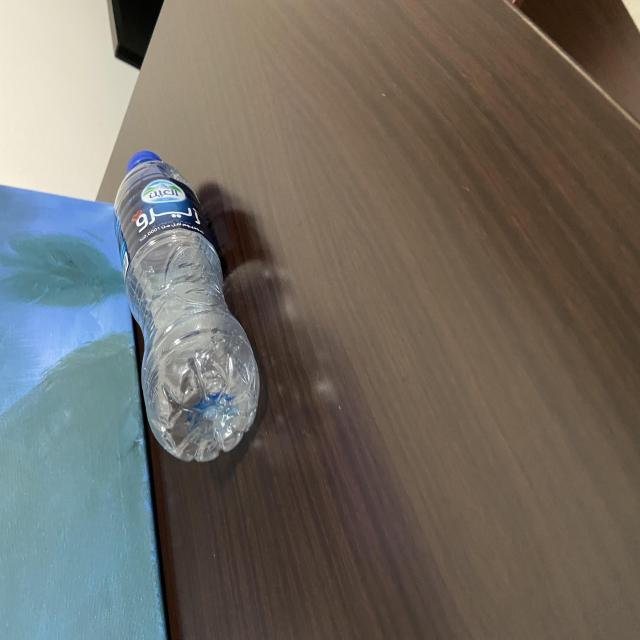bottle: (115, 147, 265, 470)
